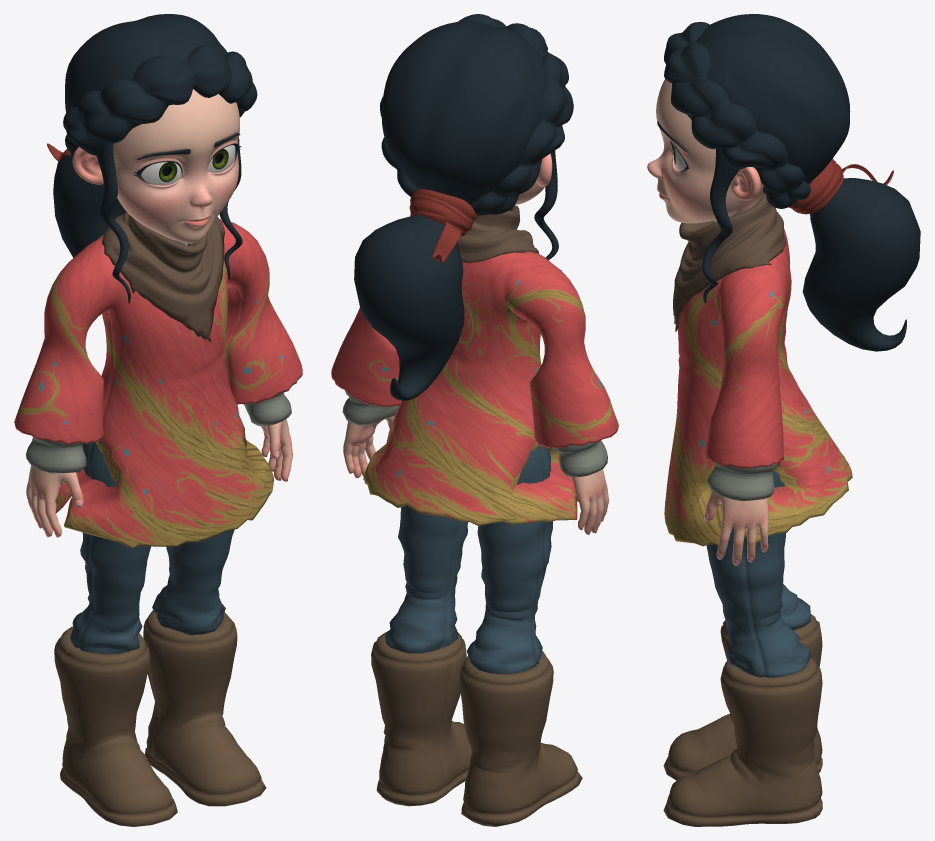
File: spring.glb
3 views of the same model, side by side, from view 1: azimuth 30°, elevation 25°; view 2: azimuth 150°, elevation 25°; view 3: azimuth 270°, elevation 25° (orthographic).
Parts seen in each view (by area): view 1: GEO-spring_jacket.001, GEO_spring_boots.l.001, GEO_spring_boots.r.001, GEO_spring_pants.001, GEO-spring_head.001, GEO_spring_hair_braided.001, GEO_spring_scarf.001, GEO_spring_hair_main.001, GEO_spring_hair_ponytail.001, GEO_spring_arms.001, GEO-spring_pullover.001, GEO_spring_hair_ears.001 (+1 smaller); view 2: GEO-spring_jacket.001, GEO_spring_hair_main.001, GEO_spring_pants.001, GEO_spring_boots.r.001, GEO_spring_hair_ponytail.001, GEO_spring_boots.l.001, GEO_spring_hair_braided.001, GEO_spring_arms.001, GEO_spring_scarf.001, GEO-spring_pullover.001, GEO_spring_hairband_main.001, GEO_spring_hair_ears.001 (+2 smaller); view 3: GEO-spring_jacket.001, GEO_spring_boots.l.001, GEO_spring_hair_main.001, GEO_spring_hair_ponytail.001, GEO_spring_pants.001, GEO_spring_hair_braided.001, GEO-spring_head.001, GEO_spring_scarf.001, GEO_spring_boots.r.001, GEO_spring_arms.001, GEO-spring_pullover.001, GEO_spring_hair_ears.001 (+1 smaller).
Boxes of the visible parts, x1,y1,x2,y2 form: GEO-spring_jacket.001: [14, 219, 302, 548]; GEO_spring_boots.l.001: [143, 610, 266, 806]; GEO_spring_boots.r.001: [54, 626, 177, 826]; GEO_spring_pants.001: [70, 442, 234, 654]; GEO-spring_head.001: [72, 89, 239, 243]; GEO_spring_hair_braided.001: [63, 44, 257, 184]; GEO_spring_scarf.001: [101, 211, 224, 342]; GEO_spring_hair_main.001: [65, 14, 227, 112]; GEO_spring_hair_ponytail.001: [53, 155, 125, 257]; GEO_spring_arms.001: [26, 419, 292, 537]; GEO-spring_pullover.001: [25, 235, 291, 473]; GEO_spring_hair_ears.001: [96, 136, 242, 303]; GEO-spring_jacket.001: [331, 251, 618, 525]; GEO_spring_hair_main.001: [381, 21, 546, 204]; GEO_spring_pants.001: [385, 445, 552, 674]; GEO_spring_boots.r.001: [460, 651, 582, 826]; GEO_spring_hair_ponytail.001: [354, 214, 464, 400]; GEO_spring_boots.l.001: [371, 631, 471, 806]; GEO_spring_hair_braided.001: [380, 14, 573, 215]; GEO_spring_arms.001: [343, 416, 608, 534]; GEO_spring_scarf.001: [458, 205, 538, 262]; GEO-spring_pullover.001: [342, 390, 607, 476]; GEO_spring_hairband_main.001: [409, 188, 477, 236]; GEO_spring_hair_ears.001: [534, 150, 558, 260]; GEO-spring_jacket.001: [664, 230, 852, 546]; GEO_spring_boots.l.001: [663, 657, 822, 826]; GEO_spring_hair_main.001: [696, 14, 850, 193]; GEO_spring_hair_ponytail.001: [802, 178, 920, 351]; GEO_spring_pants.001: [706, 471, 811, 677]; GEO_spring_hair_braided.001: [664, 22, 810, 208]; GEO-spring_head.001: [647, 79, 764, 223]; GEO_spring_scarf.001: [673, 194, 785, 331]; GEO_spring_boots.r.001: [663, 614, 822, 780]; GEO_spring_arms.001: [704, 491, 768, 565]; GEO-spring_pullover.001: [707, 220, 780, 500]; GEO_spring_hair_ears.001: [702, 148, 739, 302].
Size of the model in its own units: 0.5409 by 1.41 by 0.4556.
15 materials, 4 textured.
